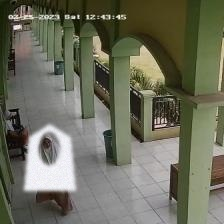Mukena: (23, 124, 76, 190)
